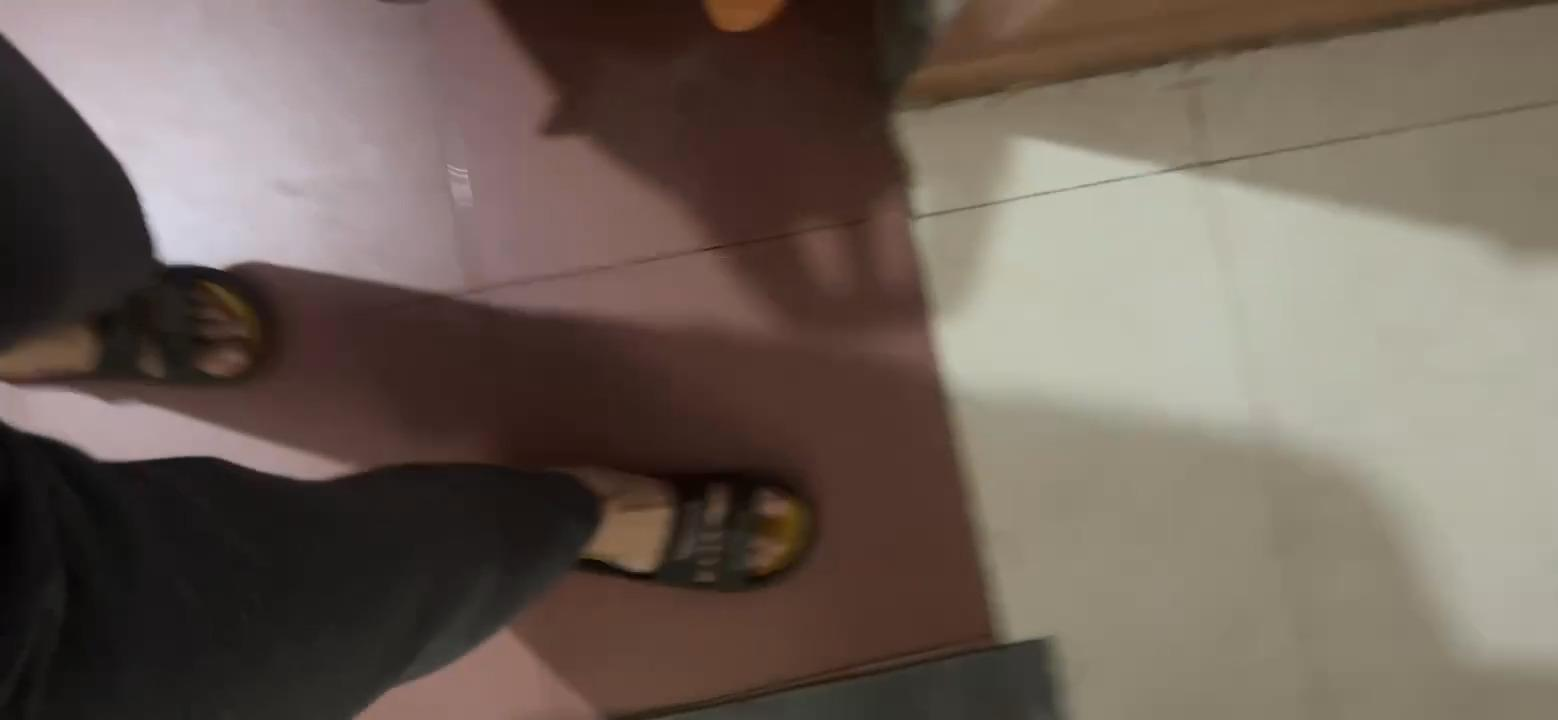no-boot: (553, 445, 804, 596), (0, 257, 265, 390)
